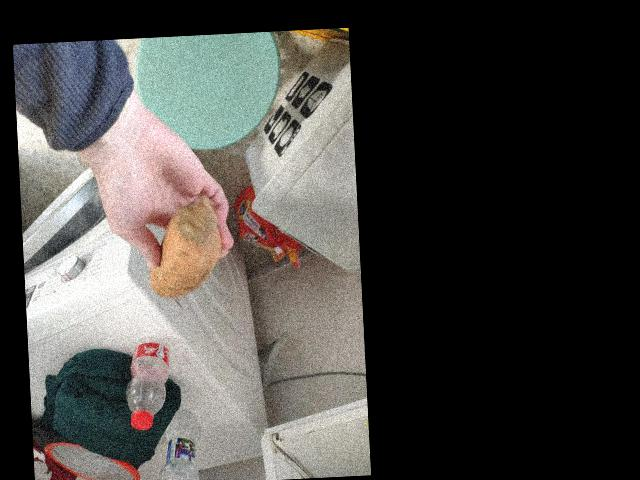sweet_potato: (152, 209, 222, 299)
